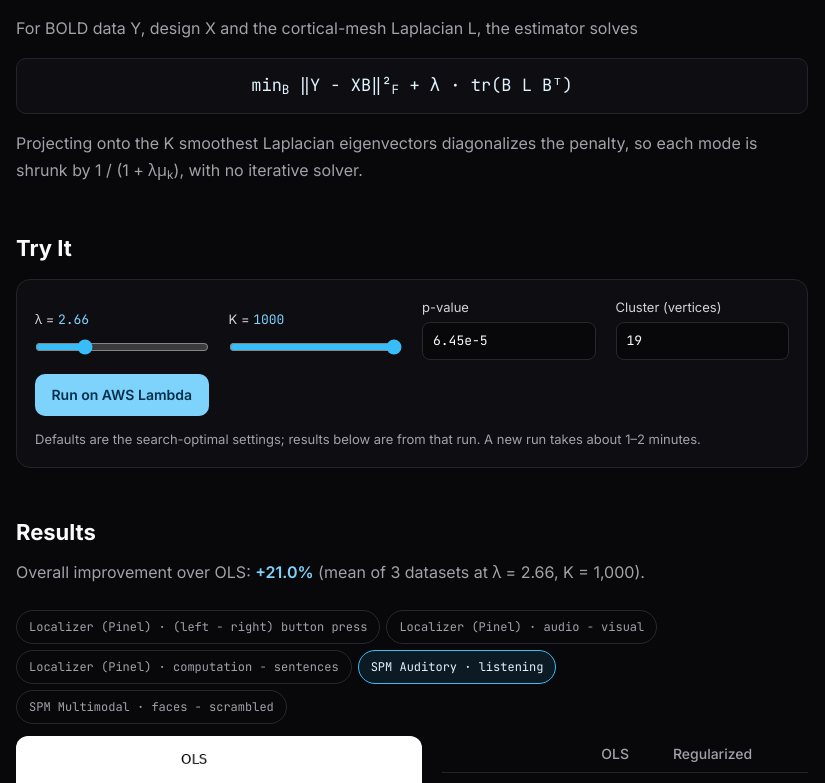
Test: Laplacian demo page › replaces the saved results with the finished run
(page scrolled)
What coordinates should you click on to do the following:
click the button "Run on AWS Lambda"
I would click on:
 (122, 394)
Its box is [35,374,208,416].
Wait 3100 ms
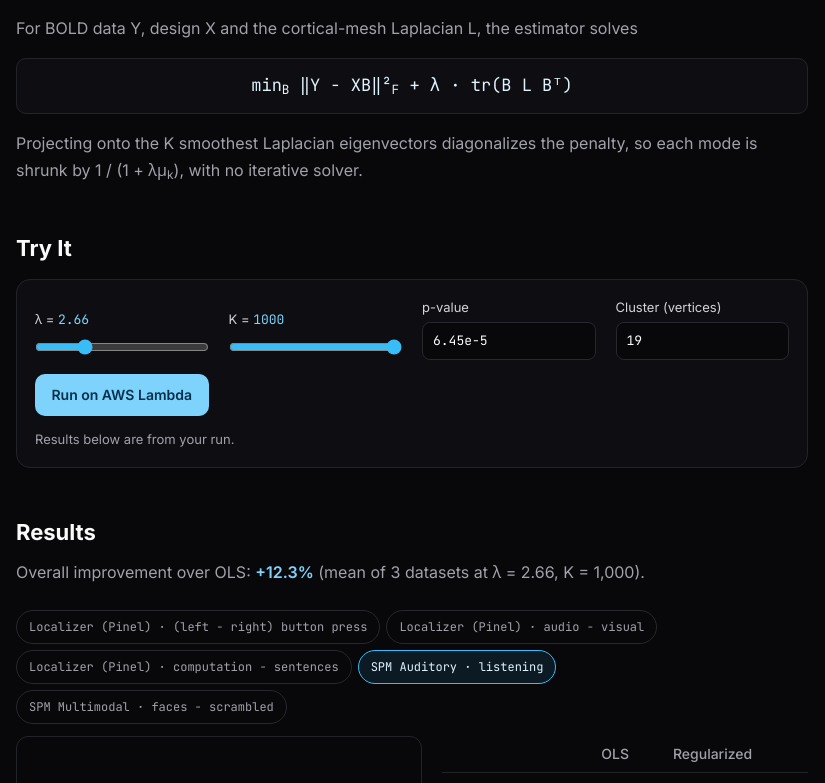
Check: the text "+12.3%" is shown, box [255,562,314,582]
Check: the text "Results below are from your run." is shown, box [35,430,234,446]
